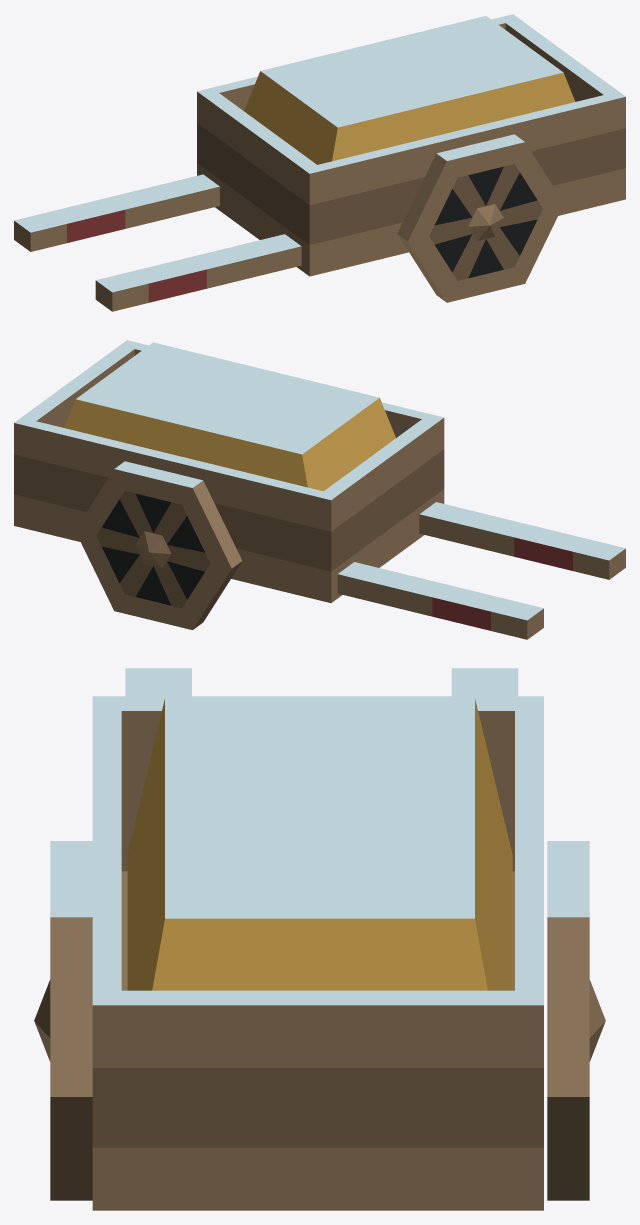
The model's file is SM_Prop_Knights_Wagon_01_Snow.fbx.
3 renders of one model, top to bottom at view 1: azimuth 30°, elevation 25°; view 2: azimuth 150°, elevation 25°; view 3: azimuth 270°, elevation 25°, orthographic. The views are drawn at different scales.
Visible parts, largest first — view 1: SM_Prop_Knights_Wagon_01_Snow; view 2: SM_Prop_Knights_Wagon_01_Snow; view 3: SM_Prop_Knights_Wagon_01_Snow.
Part boxes in pixels (<box>): SM_Prop_Knights_Wagon_01_Snow: <box>14,14,625,311</box>; SM_Prop_Knights_Wagon_01_Snow: <box>14,340,625,639</box>; SM_Prop_Knights_Wagon_01_Snow: <box>34,668,605,1210</box>.
Bounding box in the file's own units: 178 × 58.51 × 87.21.
Materials: 1 (1 with a texture image).
